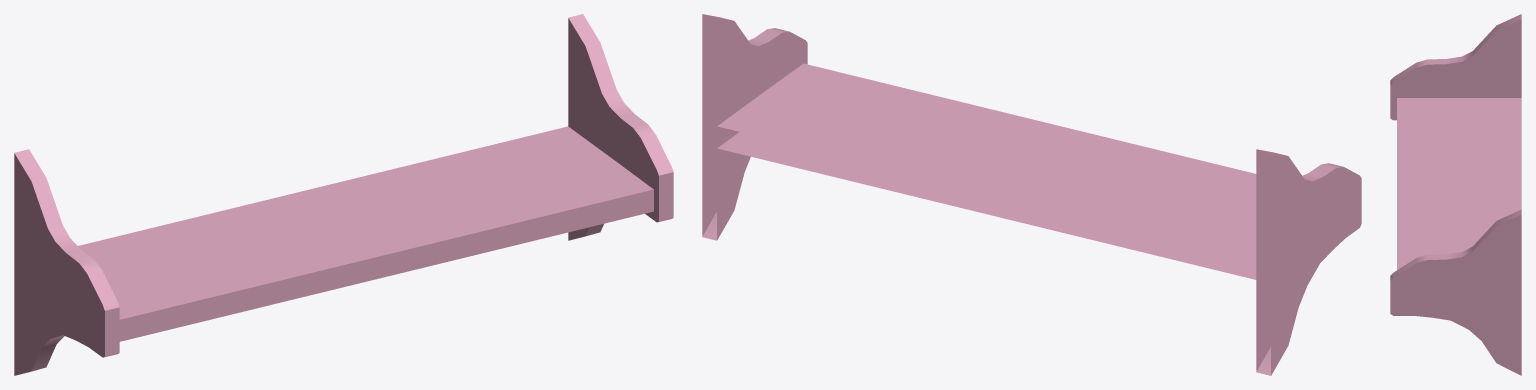
File: SM_Room_WallShelf.fbx
The picture shows the model from 3 angles, left to right: view 1: azimuth 30°, elevation 25°; view 2: azimuth 150°, elevation 25°; view 3: azimuth 270°, elevation 25°; orthographic projection. The views are drawn at different scales.
Visible parts, largest first — view 1: WallShelf; view 2: WallShelf; view 3: WallShelf.
Boxes of the visible parts, box(x1,y1,x2,y2) form: WallShelf: box(14, 14, 673, 375); WallShelf: box(702, 14, 1361, 375); WallShelf: box(1390, 14, 1521, 375).
Bounding box in the file's own units: 1.1 × 0.4122 × 0.3035.
